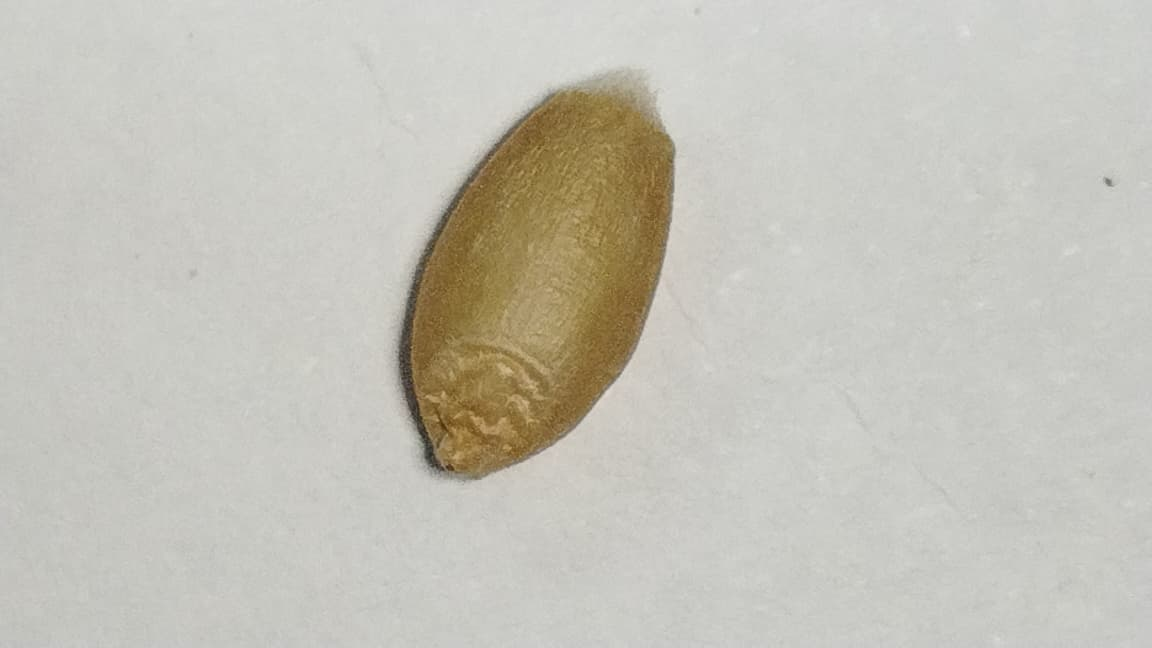healthy: (399, 71, 674, 474)
